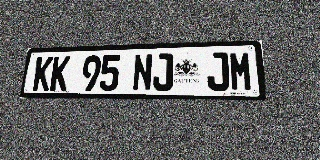5: (99, 55, 121, 91)
9: (81, 55, 102, 91)
J: (207, 52, 230, 91), (152, 53, 173, 91)
K: (49, 56, 71, 91), (32, 57, 53, 91)
M: (229, 51, 253, 91)
N: (132, 54, 153, 91)
